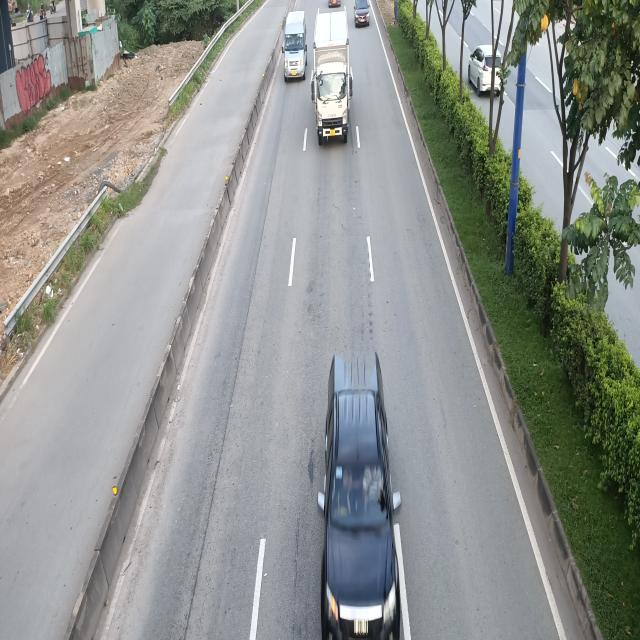car: (312, 348, 400, 636), (354, 0, 370, 25)
truck: (312, 12, 354, 144)
van: (282, 11, 306, 82)
